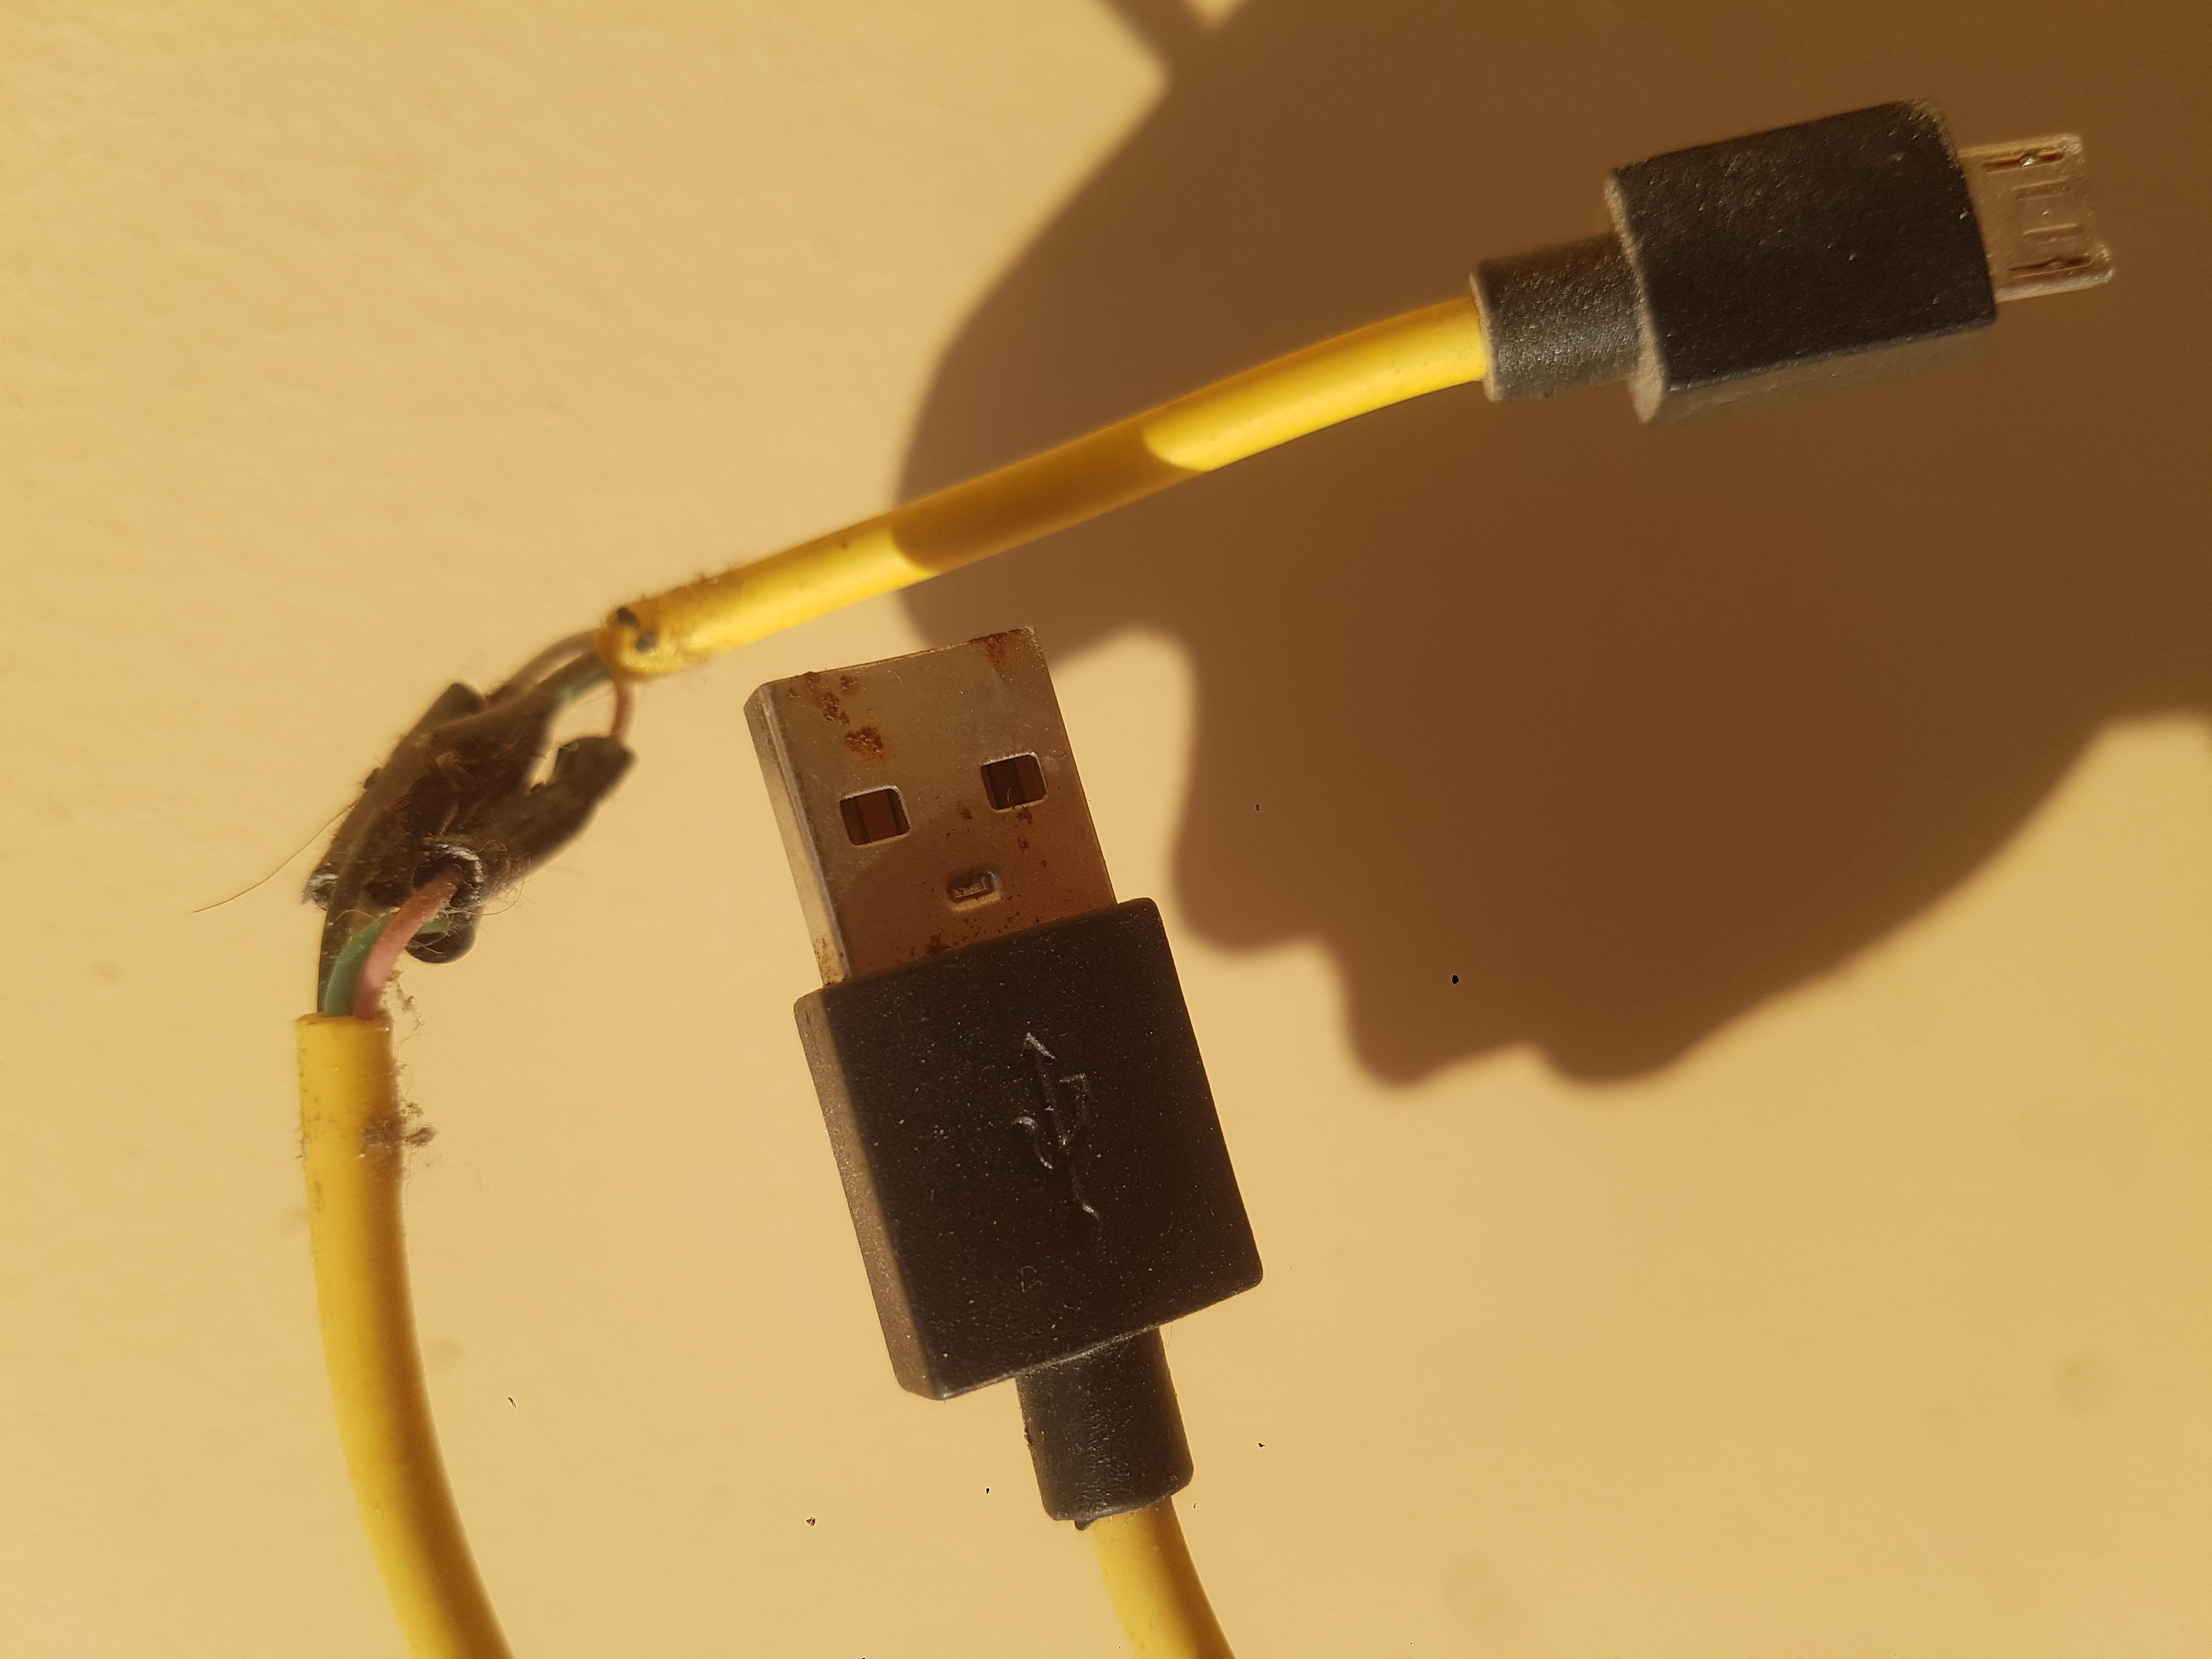electronic: (0, 227, 1810, 1483)
